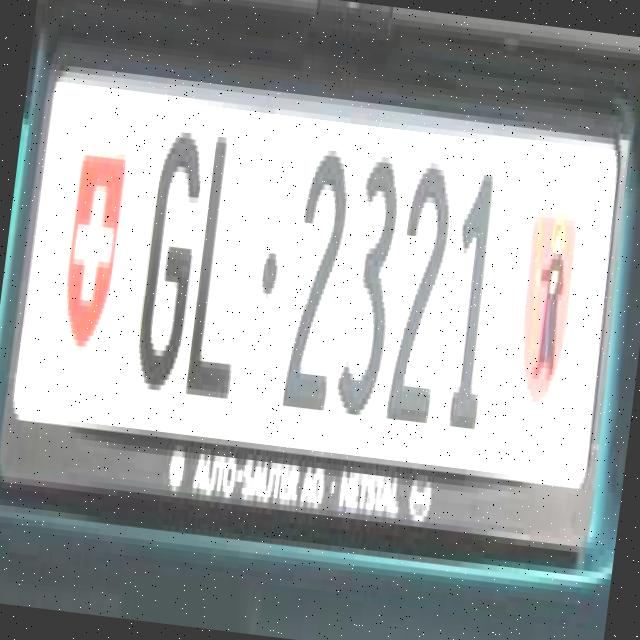Autre: (12, 68, 623, 493)
